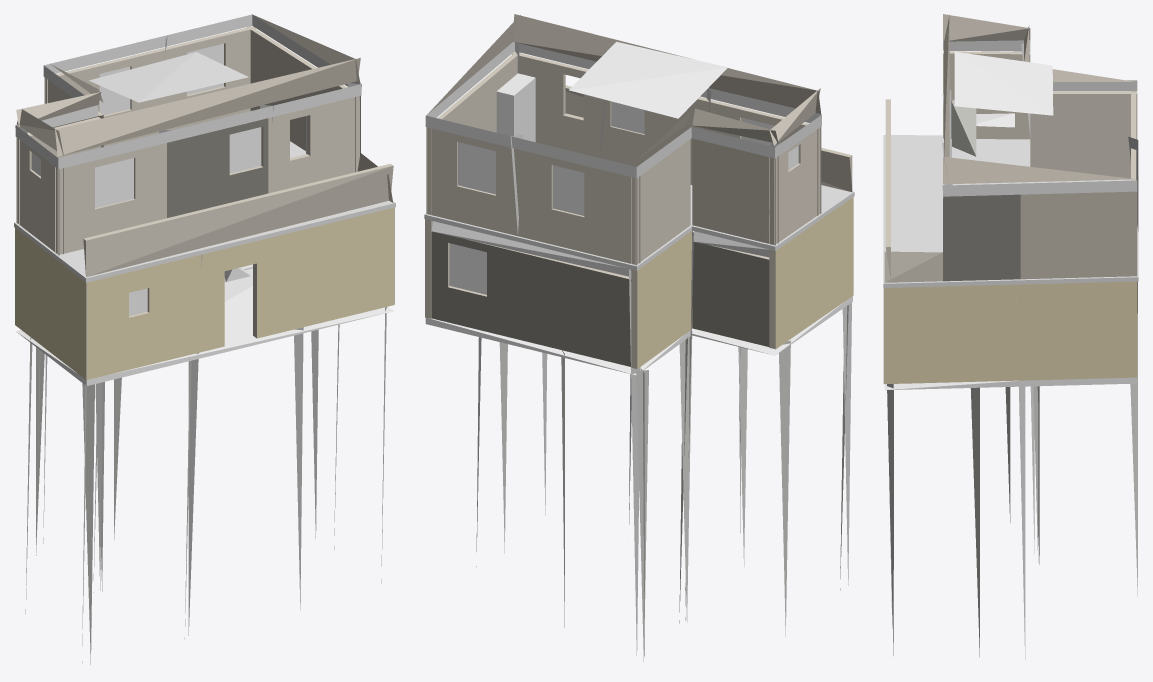
The picture shows the model from 3 angles, left to right: view 1: azimuth 30°, elevation 25°; view 2: azimuth 150°, elevation 25°; view 3: azimuth 270°, elevation 25°; orthographic projection. The views are drawn at different scales.
Parts seen in each view (by area): view 1: F_17; view 2: F_17; view 3: F_17.
Boxes of the visible parts, <box> form: F_17: <box>14,14,395,664</box>; F_17: <box>424,14,854,661</box>; F_17: <box>883,14,1138,659</box>.
Bounding box in the file's own units: 9.06 × 14.62 × 6.56.
